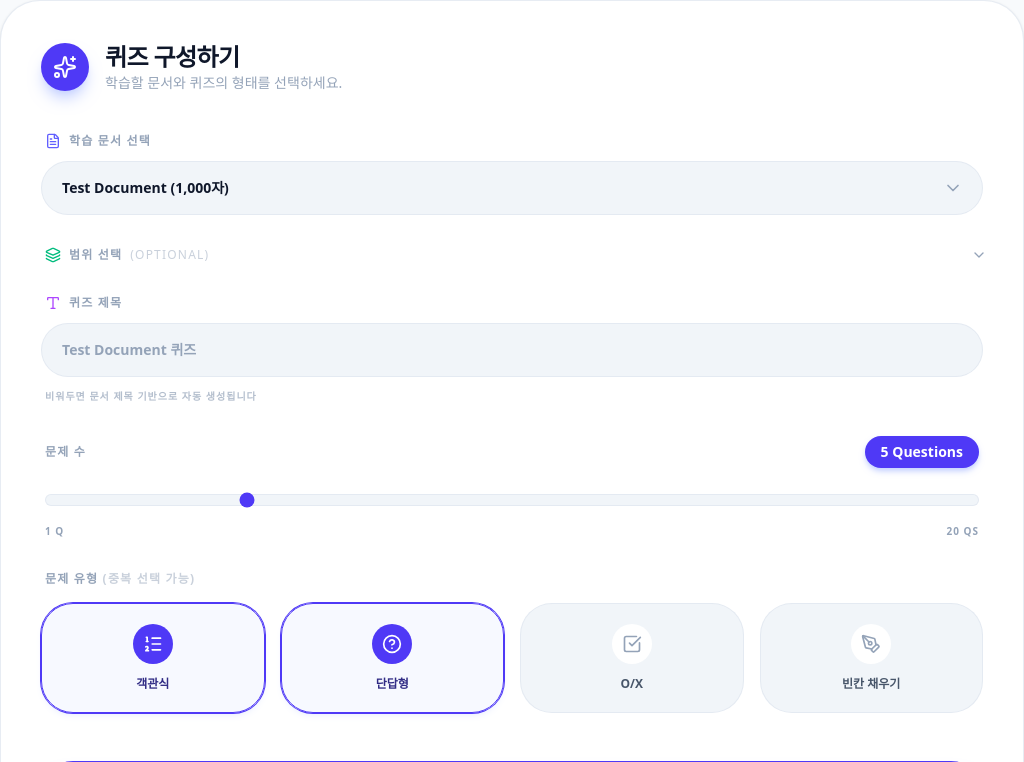
it: QuizConfigForm › shows chunk list when section is expanded
Click the text "범위 선택" at (96, 255), box 69,247 -> 122,263
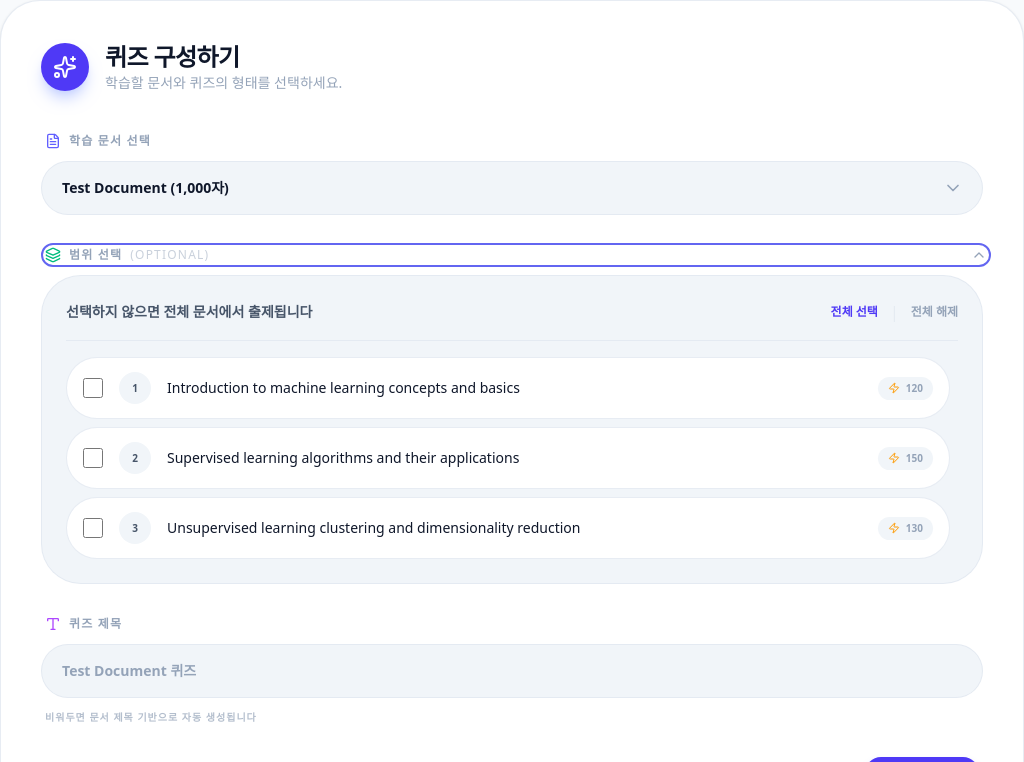
Now the text "Introduction to machine learning concepts and basics" is shown, box 167,378 -> 520,397
Now the text "Supervised learning algorithms and their applications" is shown, box 167,448 -> 519,467
Now the text "Unsupervised learning" is shown, box 167,518 -> 580,537
